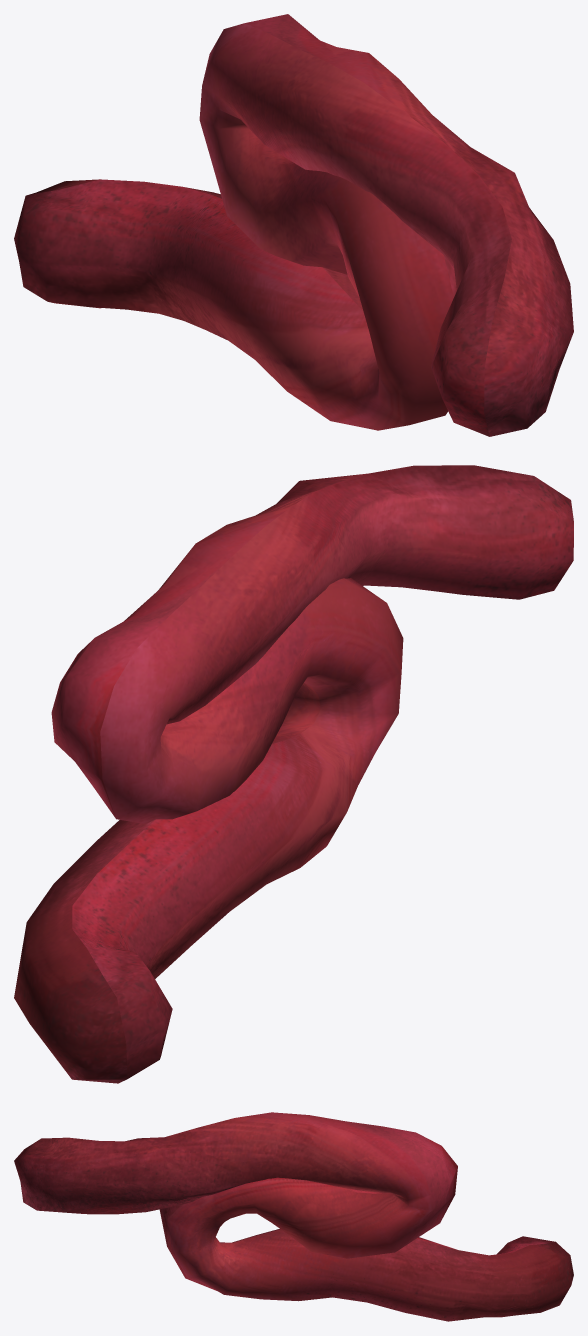
The model's file is vein-5.fbx.
3 views of the same model, one above another, from view 1: azimuth 30°, elevation 25°; view 2: azimuth 150°, elevation 25°; view 3: azimuth 270°, elevation 25° (orthographic). The views are drawn at different scales.
Visible parts, largest first — view 1: VEIN 5; view 2: VEIN 5; view 3: VEIN 5.
Part boxes in pixels (x1,y1,x2,y2): VEIN 5: [14, 14, 573, 436]; VEIN 5: [14, 465, 573, 1083]; VEIN 5: [14, 1112, 573, 1321].
Size of the model in its own units: 205 by 360 by 846.
